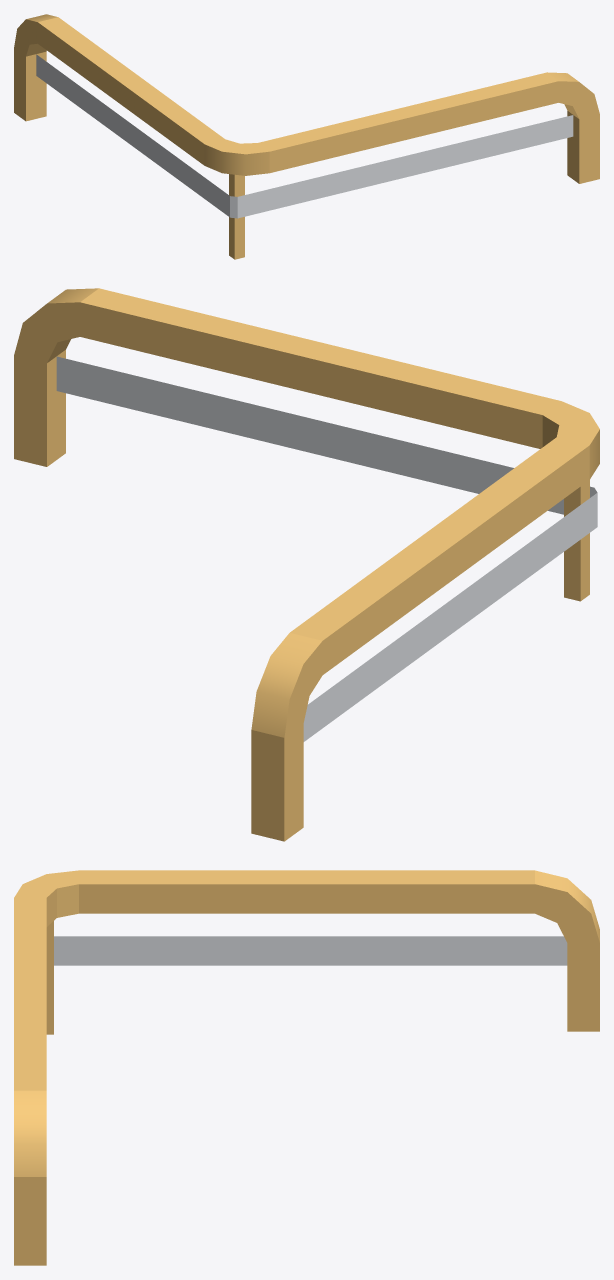
Rendered from rail_corner.glb.
The picture shows the model from 3 angles, top to bottom: view 1: azimuth 30°, elevation 25°; view 2: azimuth 150°, elevation 25°; view 3: azimuth 270°, elevation 25°; orthographic projection. The views are drawn at different scales.
Parts seen in each view (by area): view 1: rail_corner; view 2: rail_corner; view 3: rail_corner.
Boxes of the visible parts, x1,y1,x2,y2 form: rail_corner: (14, 14, 599, 259); rail_corner: (14, 288, 599, 841); rail_corner: (14, 870, 599, 1265).
Size of the model in its own units: 0.9 by 0.25 by 0.9.
